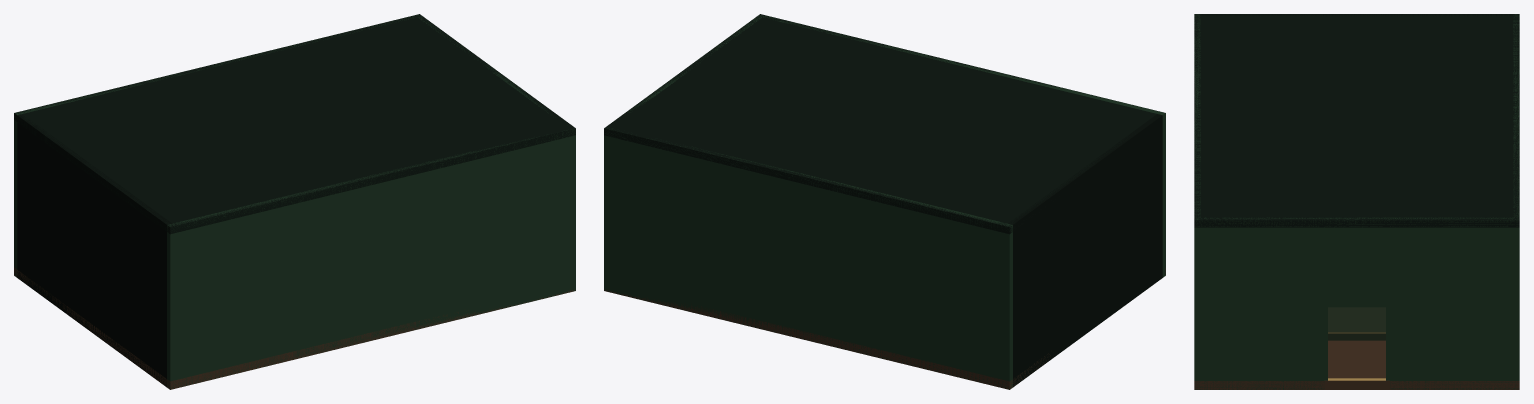
The model's file is pvJungle.glb.
The picture shows the model from 3 angles, left to right: view 1: azimuth 30°, elevation 25°; view 2: azimuth 150°, elevation 25°; view 3: azimuth 270°, elevation 25°; orthographic projection. The views are drawn at different scales.
Visible parts, largest first — view 1: pvJungle; view 2: pvJungle; view 3: pvJungle.
Part boxes in pixels (bbox=[...]): pvJungle: bbox=[14, 14, 575, 389]; pvJungle: bbox=[604, 14, 1165, 389]; pvJungle: bbox=[1194, 14, 1519, 389].
Bounding box in the file's own units: 15 × 5.75 × 10.
